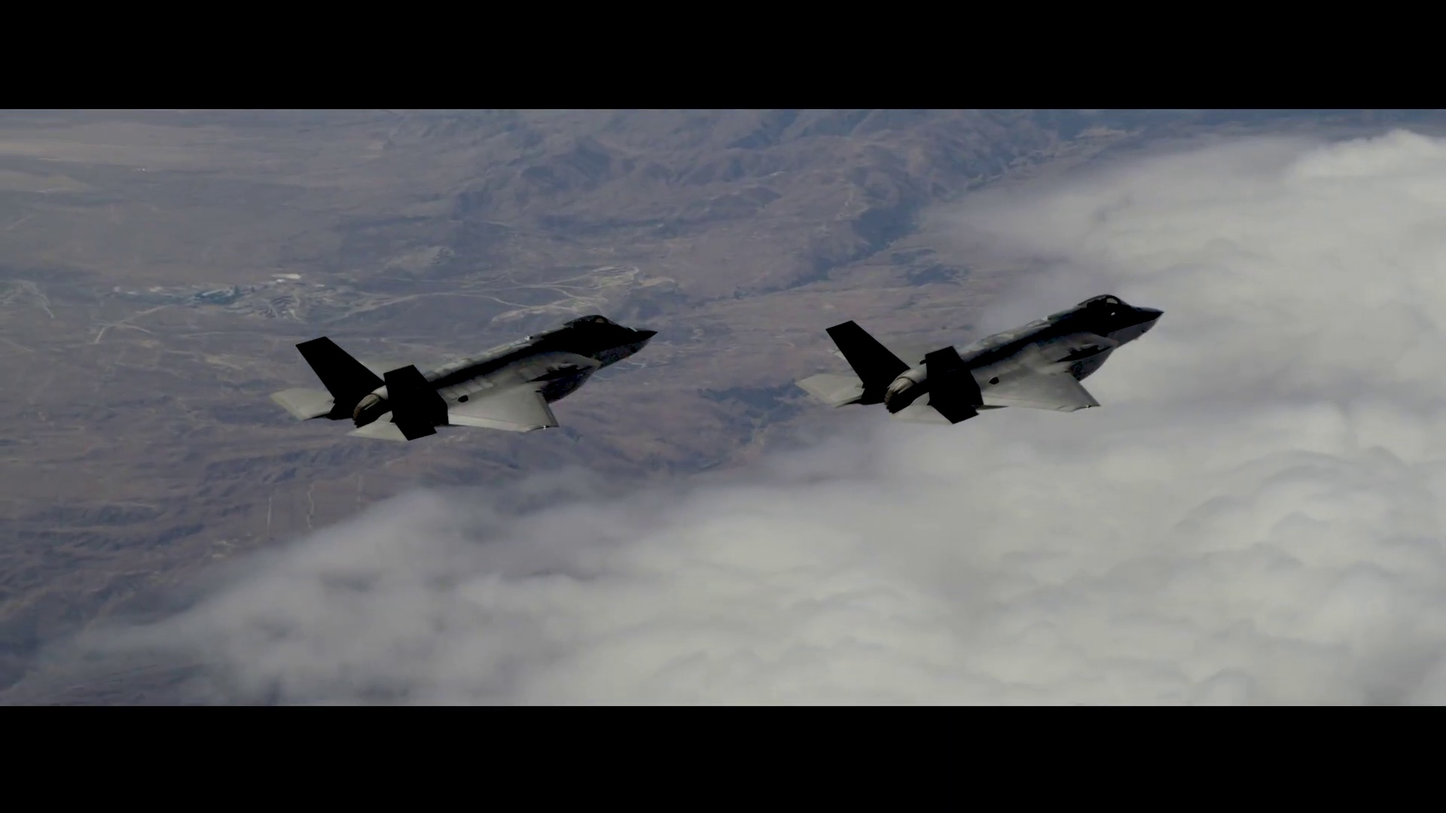F35: (269, 314, 657, 443), (825, 293, 1165, 426)
